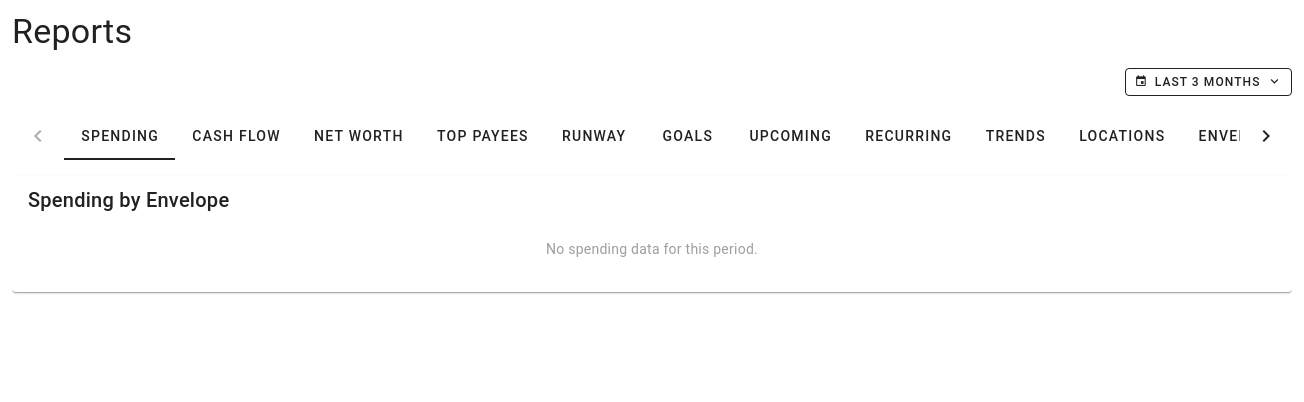
Test: ReportsView › Spending Tab › can switch away and back to spending tab
The image size is (1304, 402).
Click the tab "Cash Flow": [236, 136] box top-left (175, 112), bottom-right (297, 160)
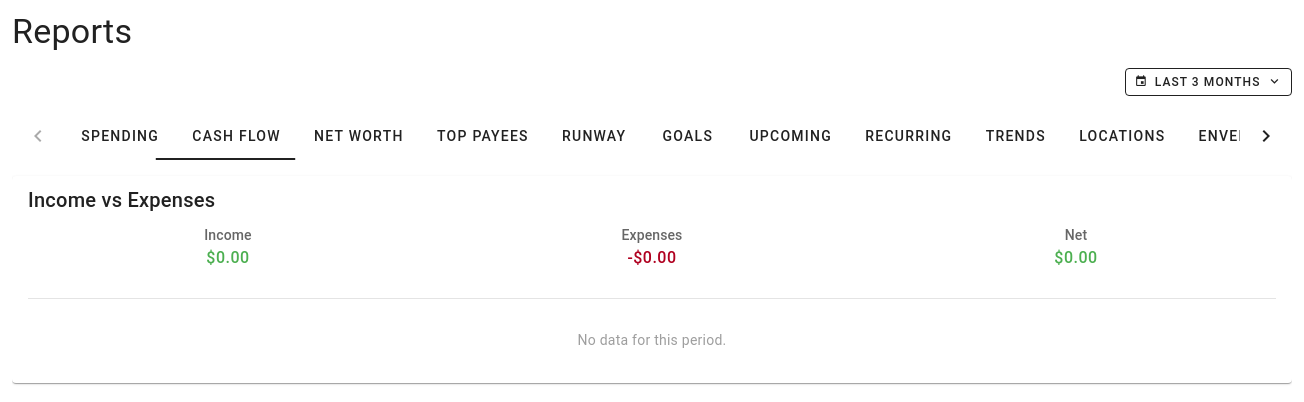
Check: the text "Income vs Expenses" is shown, box top-left (28, 188), bottom-right (215, 212)
Click the tab "Spending": [120, 136] box top-left (64, 112), bottom-right (175, 160)
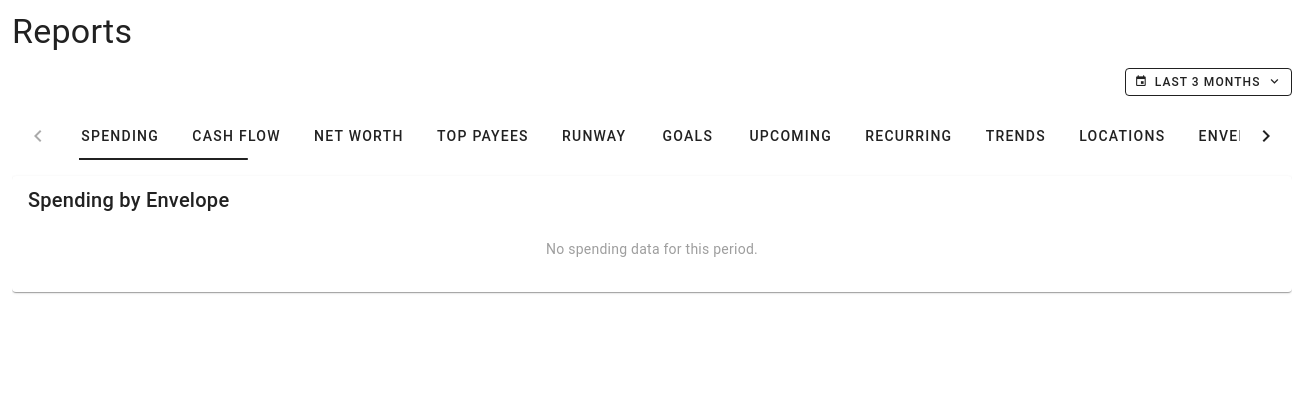
Check: the text "Spending by Envelope" is shown, box top-left (28, 188), bottom-right (229, 212)
